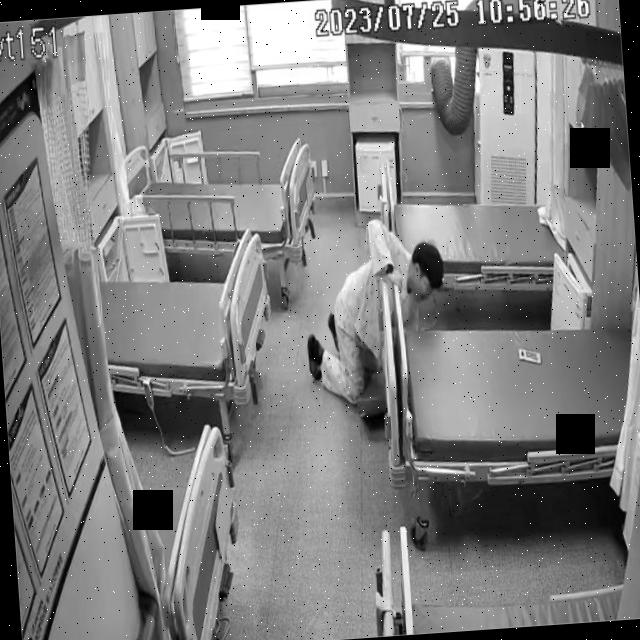bed: (397, 305, 640, 495), (96, 226, 280, 415), (123, 134, 316, 268), (379, 166, 568, 300)
fall: (299, 215, 455, 411)
patient: (299, 214, 456, 412)
